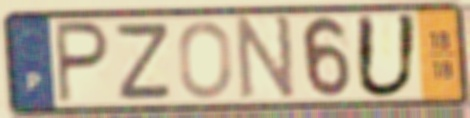6: (299, 13, 354, 102)
N: (236, 12, 297, 104)
O: (176, 19, 235, 101)
P: (53, 19, 113, 107)
U: (352, 12, 422, 101)
Z: (115, 20, 174, 102)
